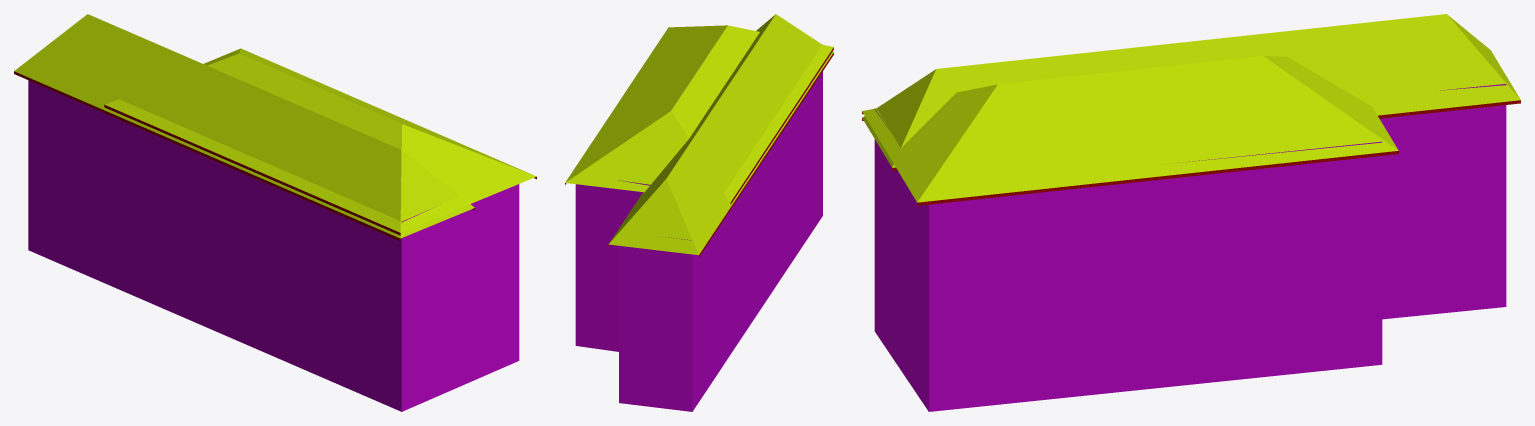
Rendered from ltp_2.glb.
3 renders of one model, left to right at view 1: azimuth 30°, elevation 25°; view 2: azimuth 150°, elevation 25°; view 3: azimuth 270°, elevation 25°, orthographic. The views are drawn at different scales.
Parts seen in each view (by area): view 1: ltp_2; view 2: ltp_2; view 3: ltp_2.
Boxes of the visible parts, left/top/right/bottom form: ltp_2: left=14, top=14, right=536, bottom=411; ltp_2: left=565, top=14, right=833, bottom=411; ltp_2: left=862, top=14, right=1520, bottom=411.
Size of the model in its own units: 12.58 by 10.22 by 22.
